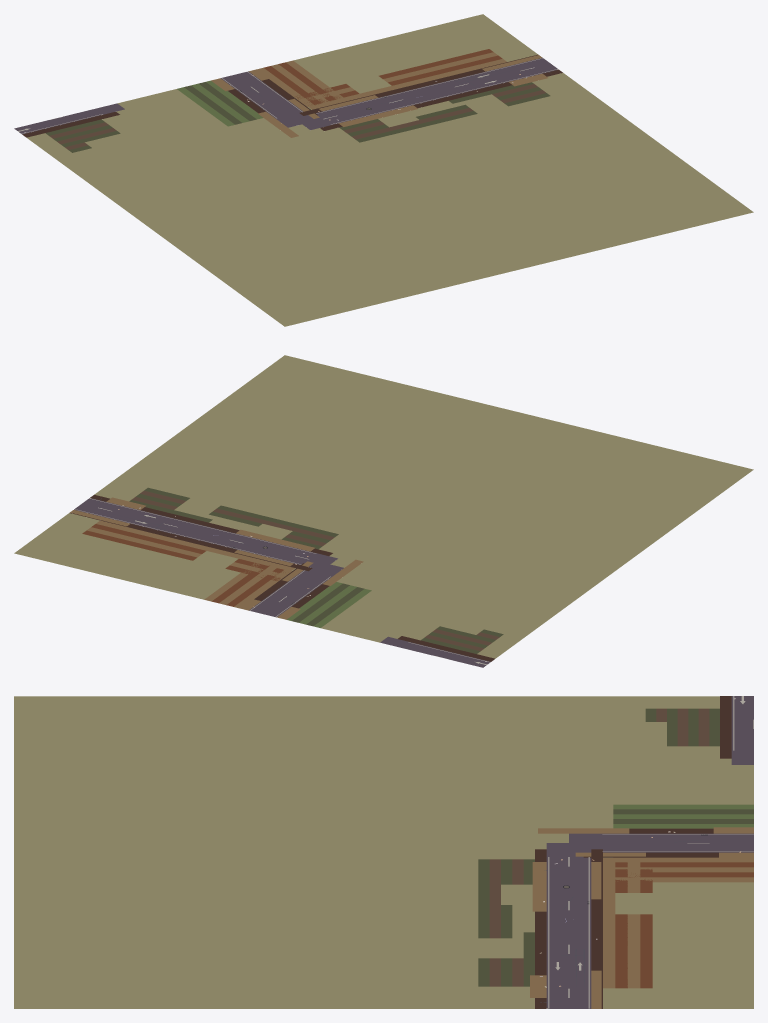
The model's file is cure-1-2.glb.
The picture shows the model from 3 angles, top to bottom: view 1: azimuth 30°, elevation 25°; view 2: azimuth 150°, elevation 25°; view 3: azimuth 270°, elevation 25°; orthographic projection. The views are drawn at different scales.
Visible parts, largest first — view 1: cure-1-2; view 2: cure-1-2; view 3: cure-1-2.
Boxes of the visible parts, x1,y1,x2,y2 form: cure-1-2: [14, 14, 753, 326]; cure-1-2: [14, 355, 753, 667]; cure-1-2: [14, 696, 753, 1008].
Size of the model in its own units: 100 by 0.015 by 100.
